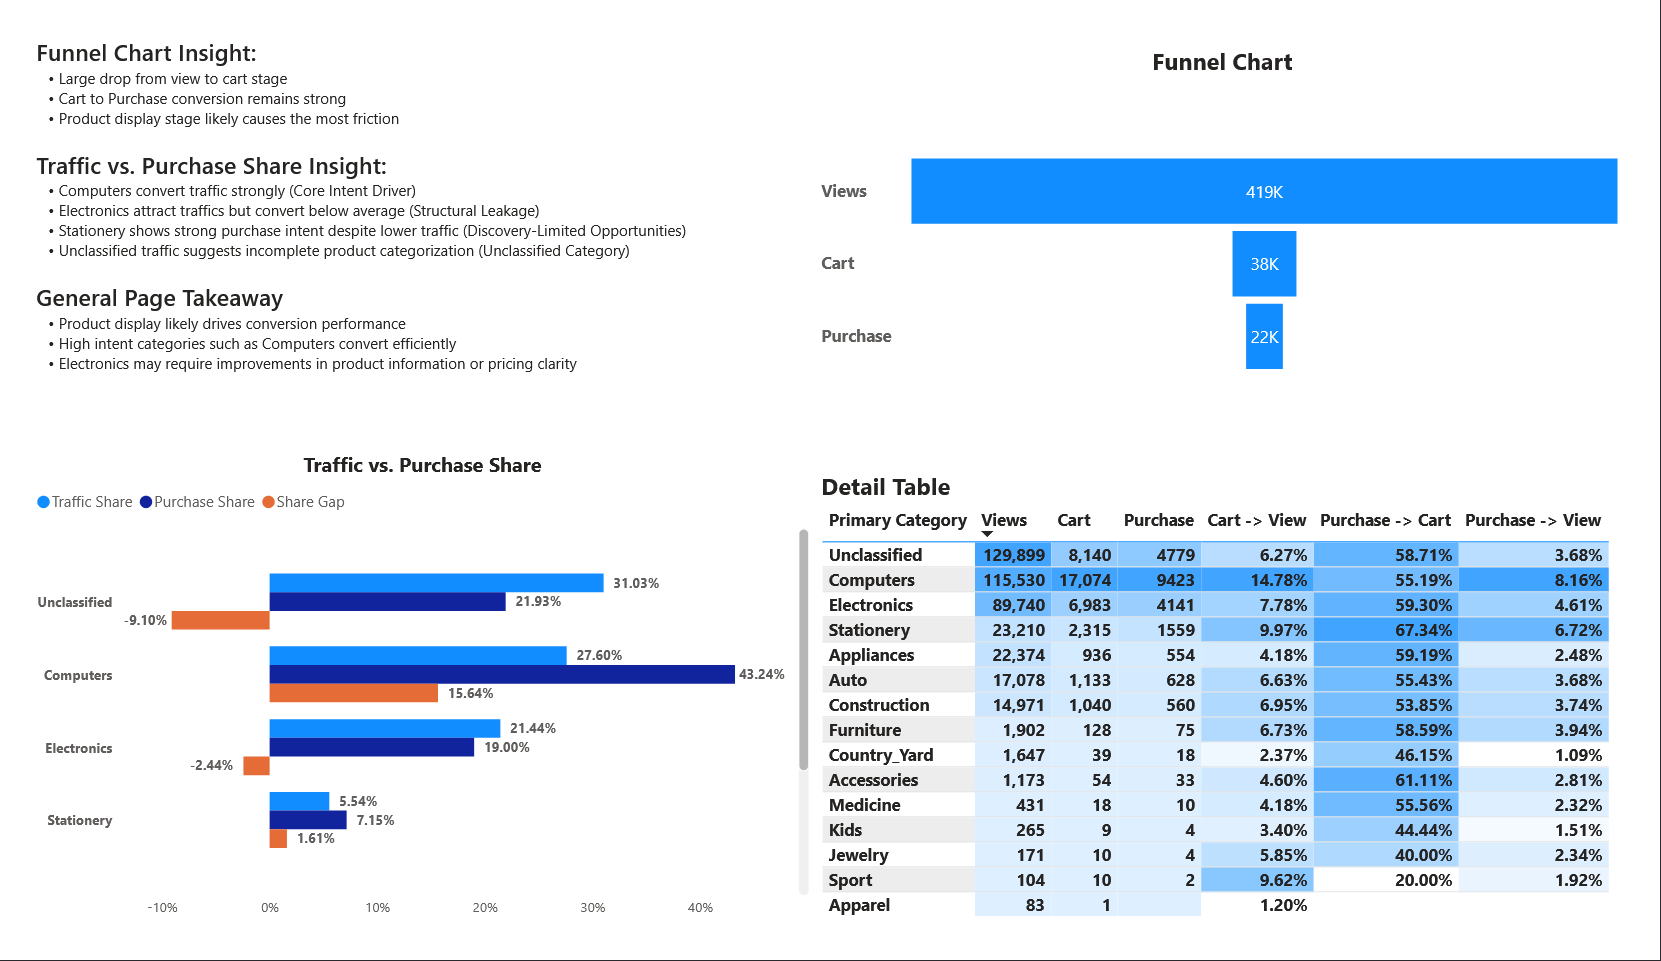

What the dashboard file says about the page in this screenshot:
{"tool":"powerbi","page":{"name":"Ecommerce Funnel and Category Conversion Analysis","canvas":[1280,720],"ordinal":0},"visuals":[{"type":"clusteredBarChart","title":"Traffic vs. Purchase Share","fields":{"Category":["events.Primary Category"],"Y":["Measure Table.Traffic Share","Measure Table.Purchase Share","Measure Table.Share Gap"]},"box":[0,336.8,628.4,383.3],"z":0},{"type":"tableEx","title":"Detail Table","fields":{"Values":["events.Primary Category","events.Views","events.Cart","events.Purchase","events.Cart -> View","events.Purchase -> Cart","events.Purchase -> View"]},"box":[628.4,351.9,651.6,368.2],"z":1000},{"type":"funnel","title":"Funnel Chart","fields":{"Y":["Measure Table.Views","Measure Table.Cart","Measure Table.Purchase"]},"box":[628.4,11.6,651.6,325.2],"z":2001},{"type":"textbox","box":[0,0,628.4,336.8],"z":2002}]}

Visuals, with their boxes in screenshot pixels (x1, y1, x2, y2), scaled from the page's 1280x720 canvas onto the 1661x961 screenshot:
"Traffic vs. Purchase Share" clusteredBarChart: box=[0, 450, 815, 960]
"Detail Table" tableEx: box=[815, 470, 1660, 960]
"Funnel Chart" funnel: box=[815, 15, 1660, 450]
textbox: box=[0, 0, 815, 450]
